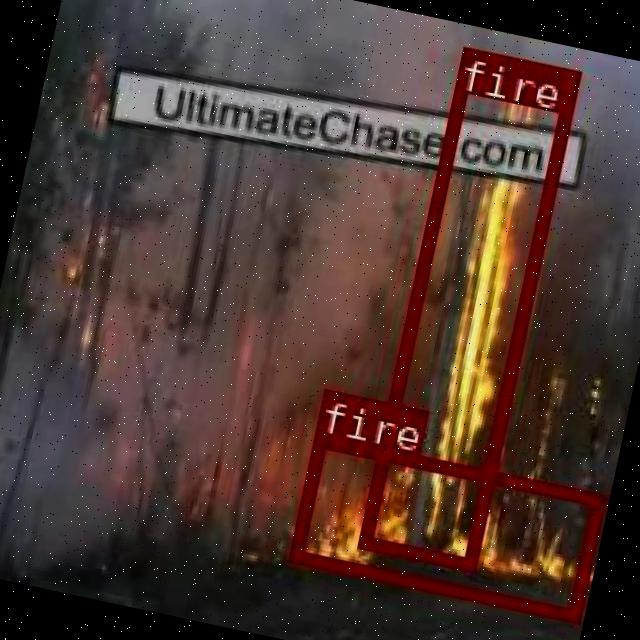fire: (354, 43, 578, 569), (286, 430, 605, 620)
